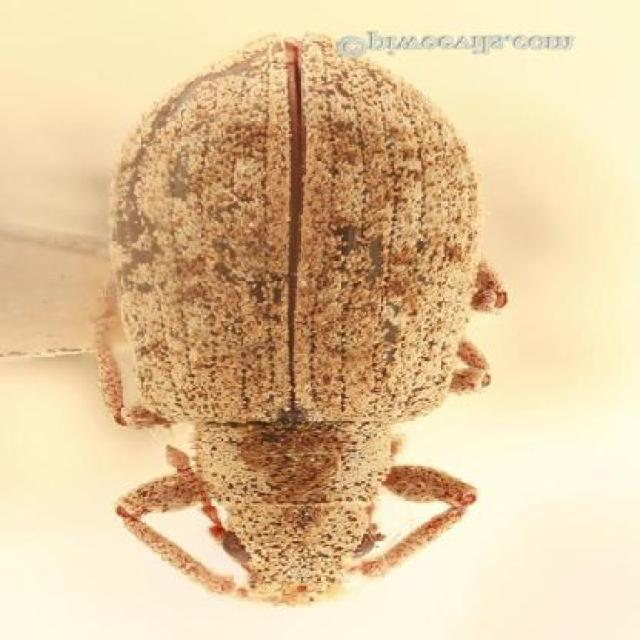rice-bug: (87, 31, 510, 607)
